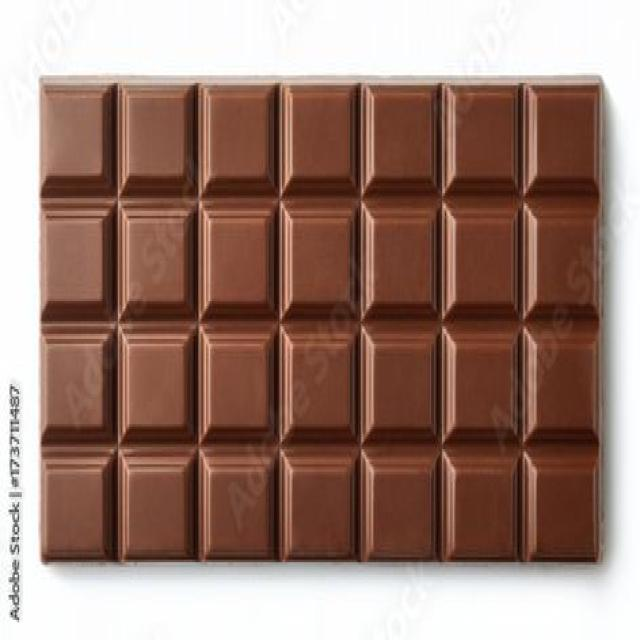Chocolate: (38, 70, 611, 568)
